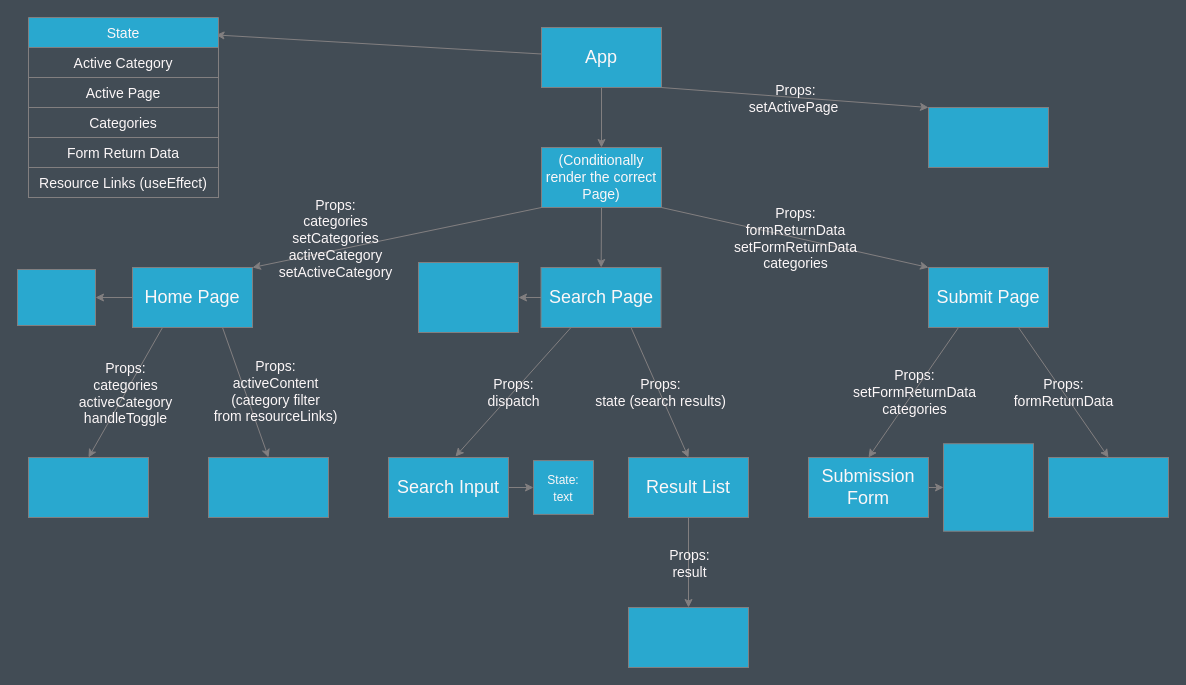
This 1186x685 diagram has some shape labels left out. Here are the shapes that lost their labels. From the top down, the centre of each, then its label:
the point at 988,137: NavBar
the point at 56,297: State: resourceLinks
the point at 468,297: State: Search Results (useReducer)
the point at 88,487: Category Bar
the point at 268,487: Collapsible Links
the point at 988,487: State: category link description name
the point at 1108,487: Submission Result
the point at 688,637: Result
